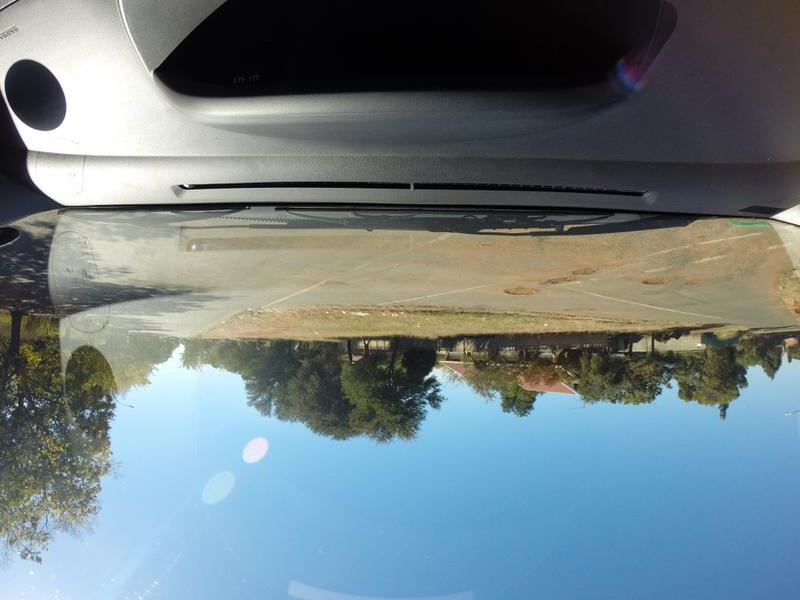pothole: (640, 274, 676, 288), (502, 285, 538, 298), (547, 271, 574, 288), (684, 271, 709, 288), (573, 263, 596, 279)
